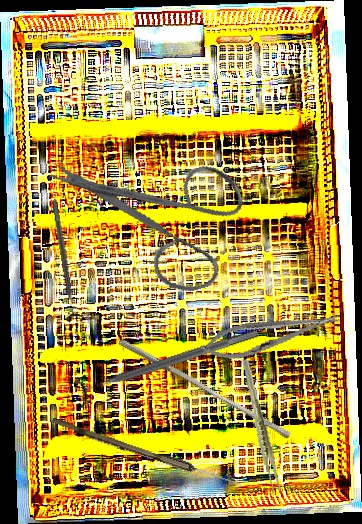Fixation Ring: (72, 318, 263, 410), (44, 197, 86, 324)
Iris Scissors: (44, 116, 263, 321)
Needle Holder: (197, 302, 344, 367)
Pusher: (114, 337, 295, 440)
Surgical Spoon: (50, 417, 243, 489)
Tissue Forceps: (240, 357, 283, 497)
